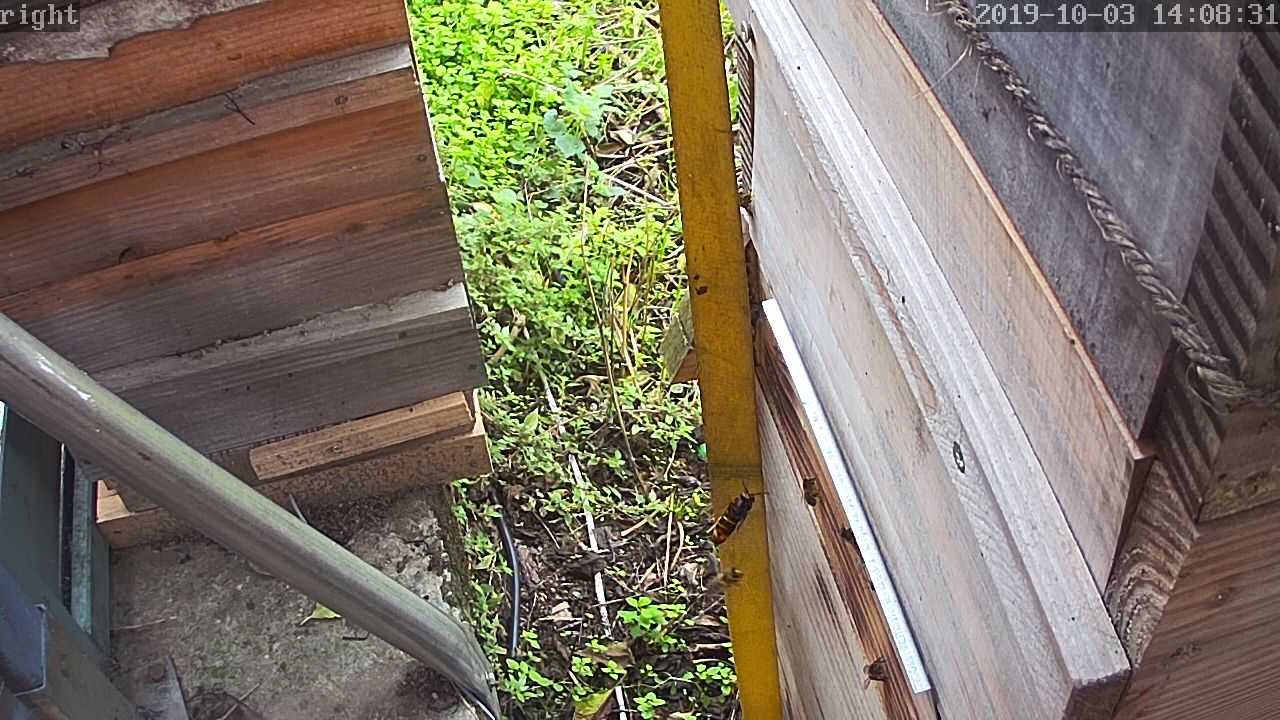bee: (828, 515, 862, 559), (703, 567, 745, 599), (856, 654, 896, 685), (798, 471, 821, 508)
hornet: (703, 481, 762, 550)
